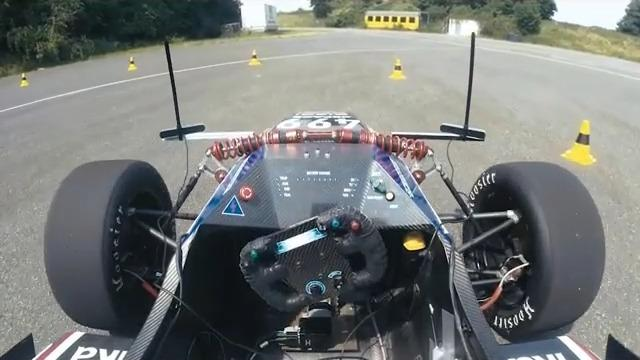yellow_cone: (561, 119, 597, 166), (389, 58, 407, 80), (248, 49, 262, 66), (128, 56, 137, 71), (20, 73, 29, 87)
